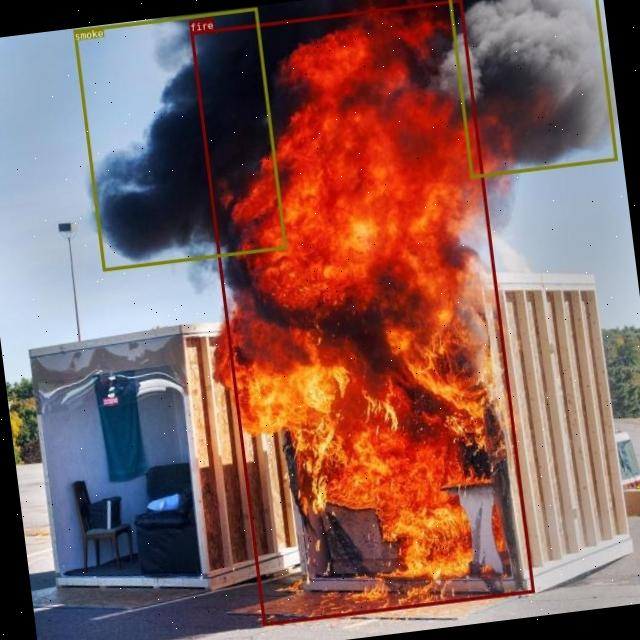fire: (190, 0, 534, 624)
smoke: (73, 8, 285, 272), (445, 0, 616, 177)
